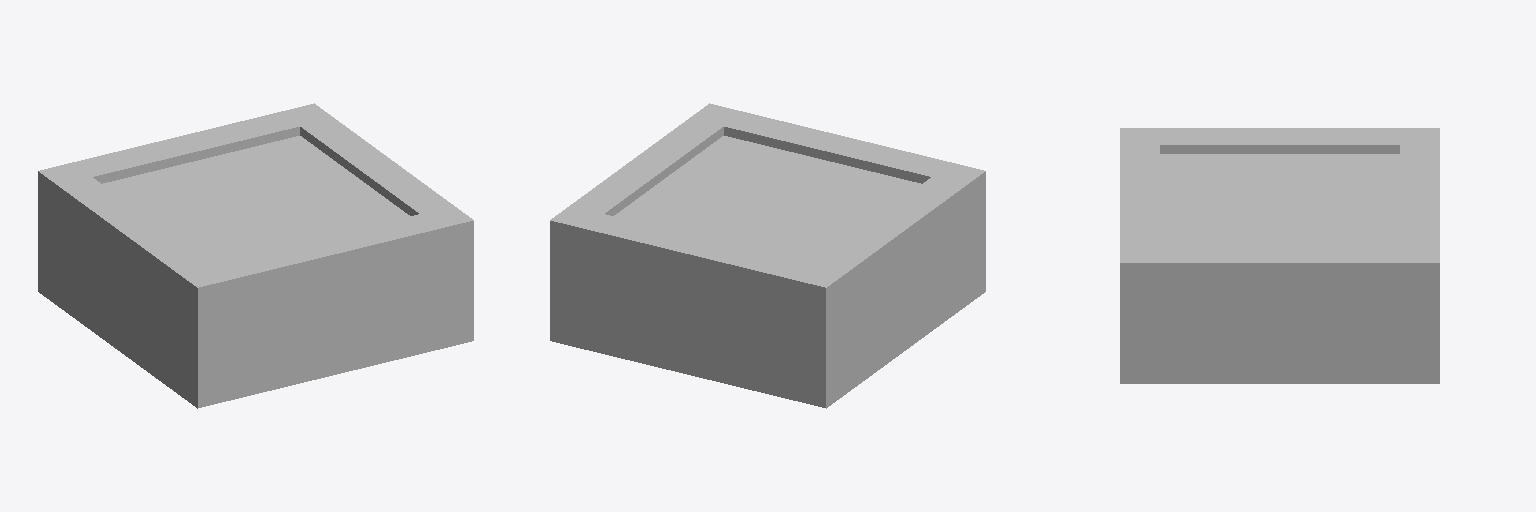
File: frame.obj
3 views of the same model, side by side, from view 1: azimuth 30°, elevation 25°; view 2: azimuth 150°, elevation 25°; view 3: azimuth 270°, elevation 25° (orthographic).
Visible parts, largest first — view 1: frame_Cube; view 2: frame_Cube; view 3: frame_Cube.
Boxes of the visible parts, x1=… form: frame_Cube: x1=38, y1=103, x2=473, y2=408; frame_Cube: x1=550, y1=103, x2=985, y2=408; frame_Cube: x1=1120, y1=128, x2=1439, y2=383.
Bounding box in the file's own units: 0.12 × 0.05 × 0.12.